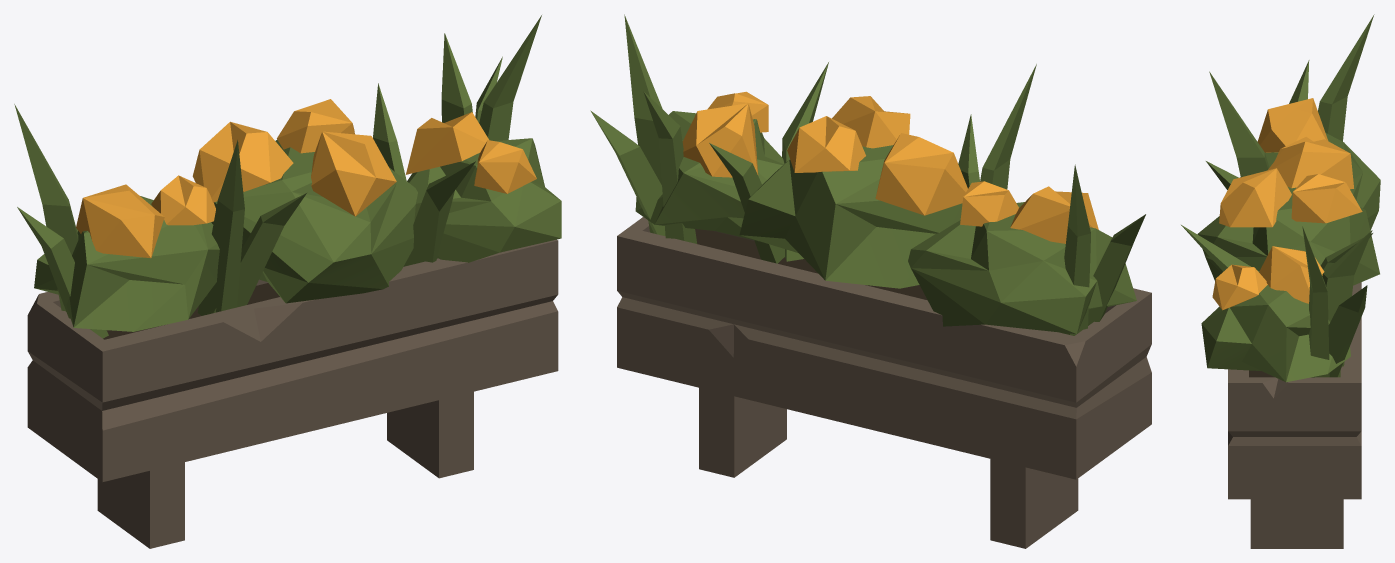
Rendered from SM_Prop_PlanterWindow_01.obj.
3 views of the same model, side by side, from view 1: azimuth 30°, elevation 25°; view 2: azimuth 150°, elevation 25°; view 3: azimuth 270°, elevation 25° (orthographic). The views are drawn at different scales.
Visible parts, largest first — view 1: SM_Prop_PlanterWindow_01_0; view 2: SM_Prop_PlanterWindow_01_0; view 3: SM_Prop_PlanterWindow_01_0.
Part boxes in pixels (x1,y1,x2,y2): SM_Prop_PlanterWindow_01_0: [14, 15, 561, 548]; SM_Prop_PlanterWindow_01_0: [590, 14, 1151, 548]; SM_Prop_PlanterWindow_01_0: [1181, 14, 1380, 548].
Size of the model in its own units: 0.9877 by 0.7433 by 0.3697.
1 material, 1 textured.
